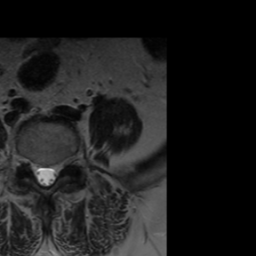CCS_normal: (41, 158, 49, 194)
LFS_normal: (58, 152, 68, 177)
LLS_normal: (50, 156, 58, 187)
RFS_normal: (24, 150, 33, 173)
RLS_normal: (33, 155, 41, 187)
